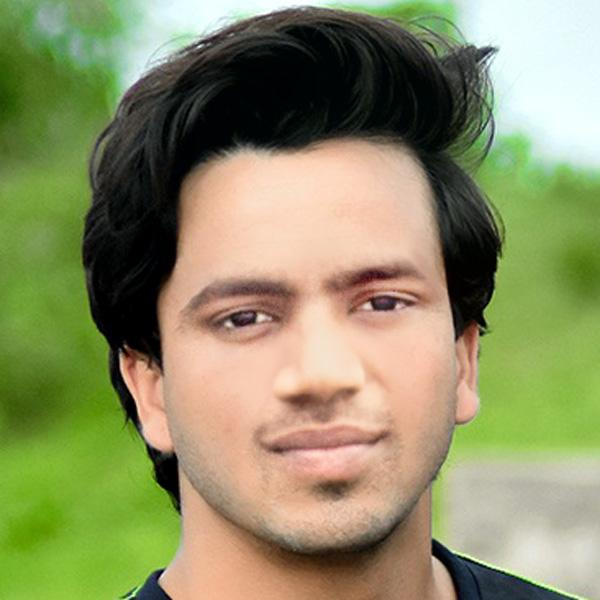Eyes: (201, 297, 294, 345), (341, 282, 425, 331)
